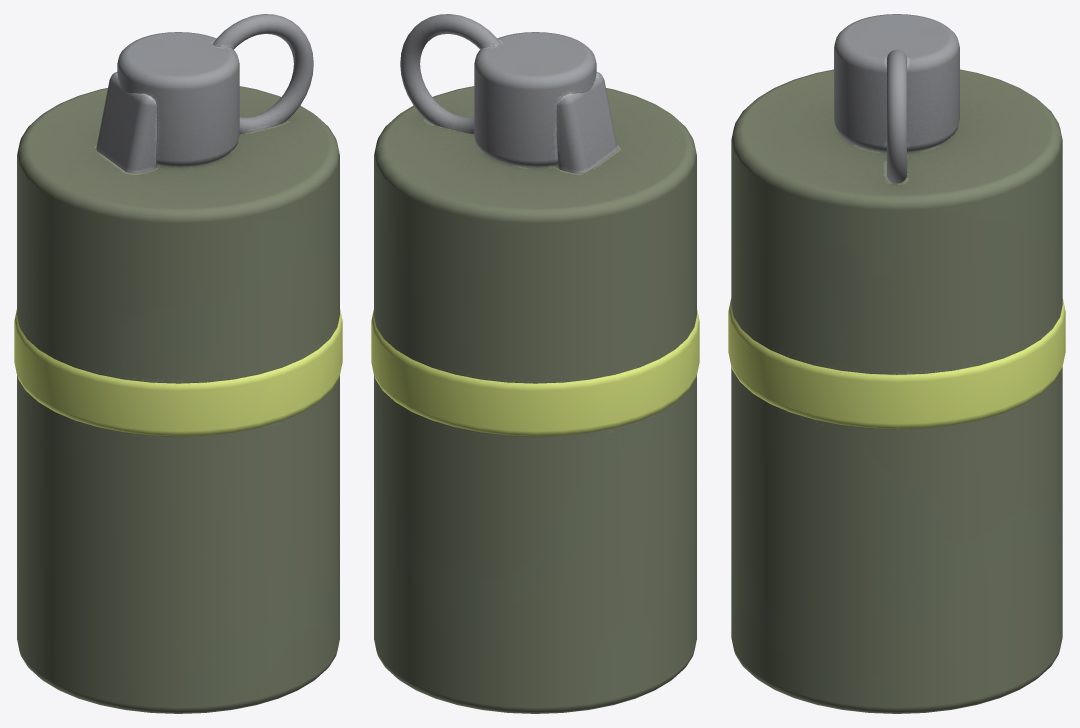
File: smoke.fbx
3 views of the same model, side by side, from view 1: azimuth 30°, elevation 25°; view 2: azimuth 150°, elevation 25°; view 3: azimuth 270°, elevation 25° (orthographic). The views are drawn at different scales.
Parts seen in each view (by area): view 1: smoke; view 2: smoke; view 3: smoke.
Part boxes in pixels (x1,y1,x2,y2): smoke: (14, 14, 342, 713); smoke: (371, 14, 699, 713); smoke: (728, 14, 1065, 713).
Bounding box in the file's own units: 0.059 × 0.1218 × 0.059.
